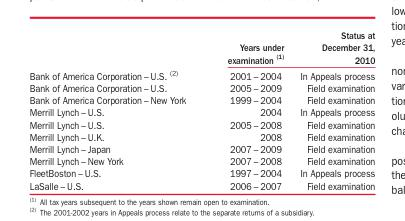table: (28, 29, 374, 190)
table column: (28, 29, 206, 190), (206, 29, 291, 190), (291, 29, 374, 190)
table column header: (28, 29, 374, 66)
table row: (28, 29, 374, 66), (28, 66, 374, 81), (28, 129, 374, 142), (28, 81, 374, 93), (28, 93, 374, 105), (28, 105, 374, 117), (28, 117, 374, 129), (28, 142, 374, 154), (28, 154, 374, 166), (28, 166, 374, 178), (28, 178, 374, 190)
